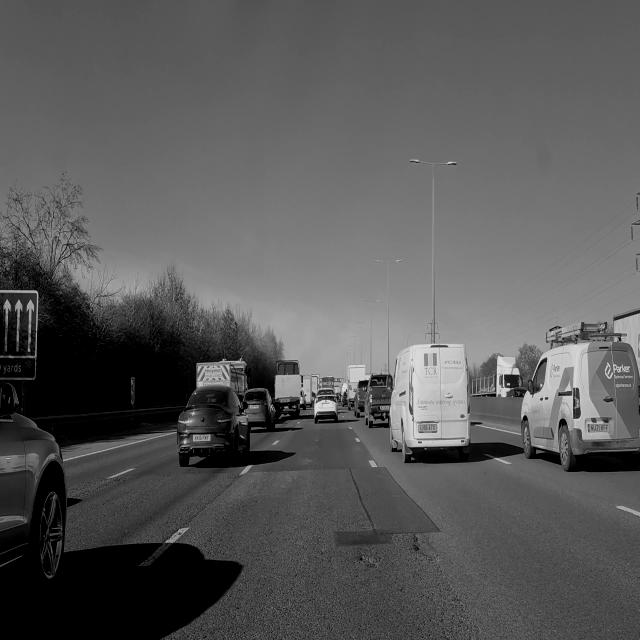car: (522, 323, 639, 471), (0, 383, 66, 592), (390, 344, 470, 462), (177, 385, 250, 466), (365, 374, 392, 428), (244, 388, 275, 431), (314, 390, 338, 423), (354, 379, 368, 417)
